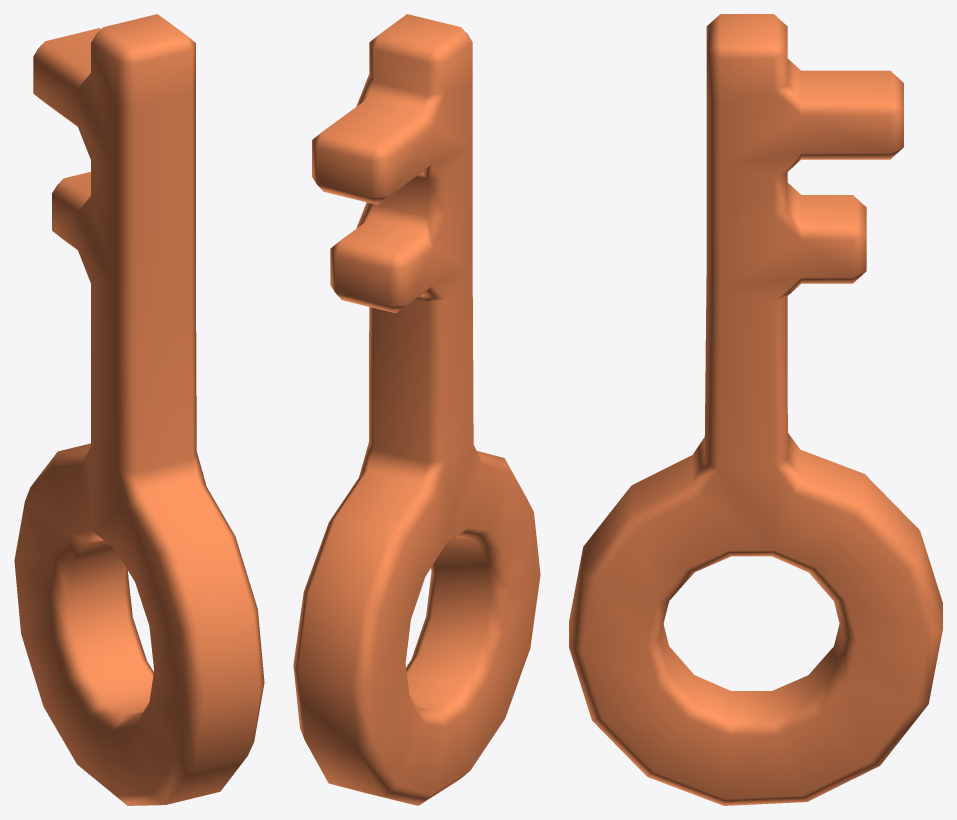
The model's file is key.fbx.
3 renders of one model, left to right at view 1: azimuth 30°, elevation 25°; view 2: azimuth 150°, elevation 25°; view 3: azimuth 270°, elevation 25°, orthographic.
Parts seen in each view (by area): view 1: key; view 2: key; view 3: key.
Boxes of the visible parts, box(x1,y1,x2,y2) form: key: box(14, 14, 264, 805); key: box(293, 14, 540, 805); key: box(569, 14, 942, 805).
Size of the model in its own units: 0.0769 by 0.3167 by 0.7153.
